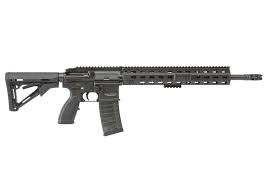rifle: (6, 65, 263, 138)
